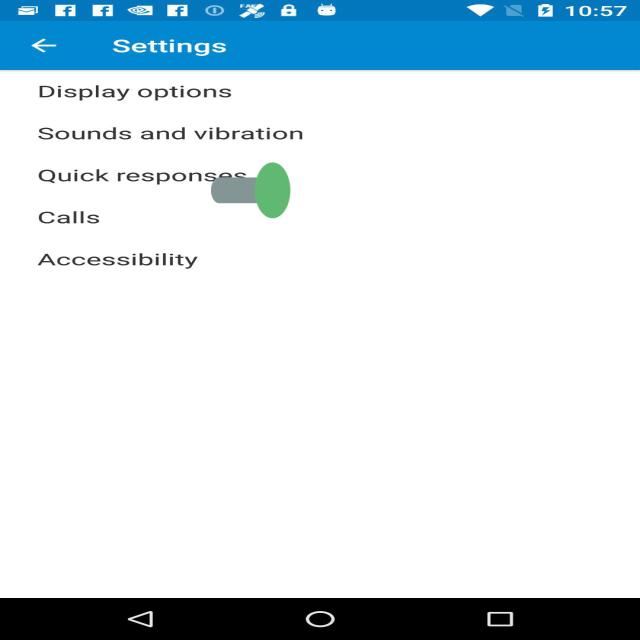social proof: (211, 128, 290, 253)
